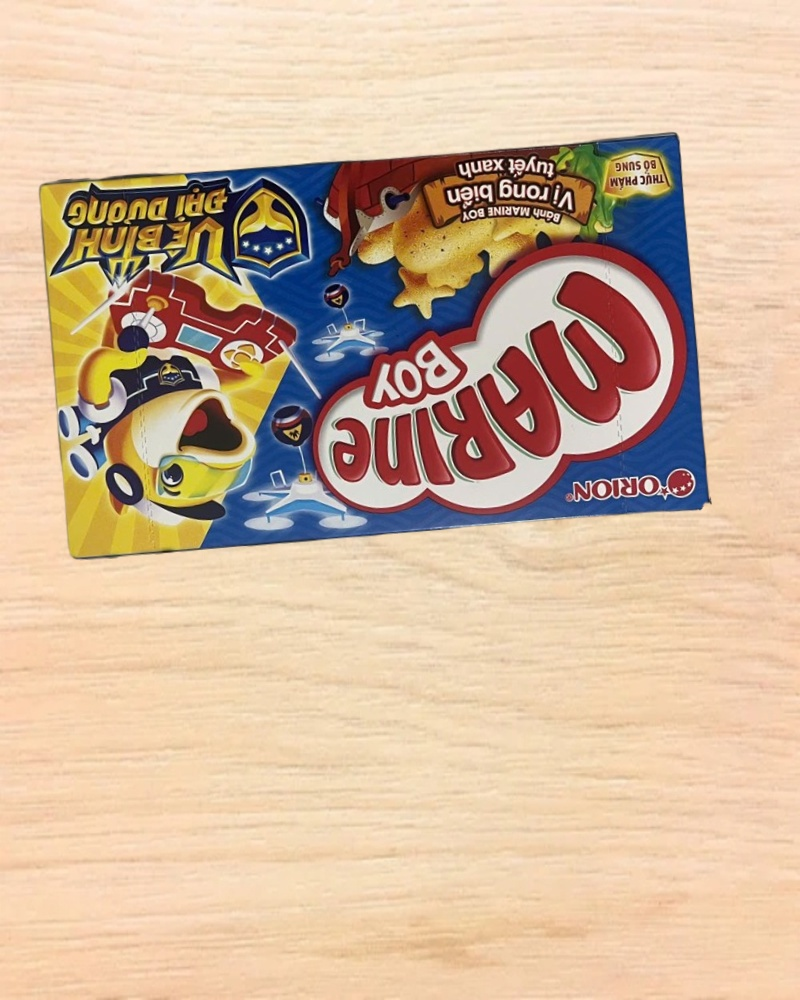Marine: (36, 128, 712, 565)
